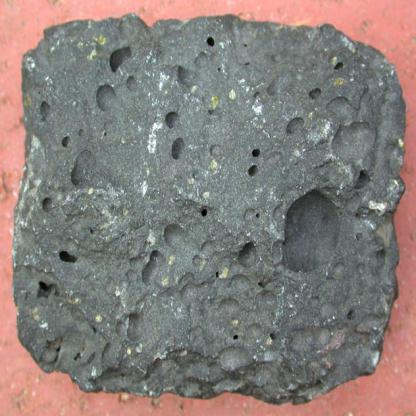Igneous_Basalt: (13, 6, 400, 399)
